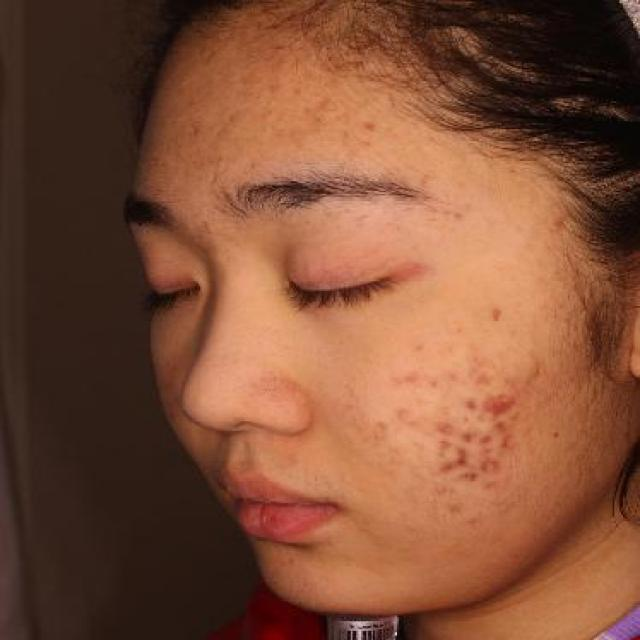papules: (478, 388, 524, 417)
